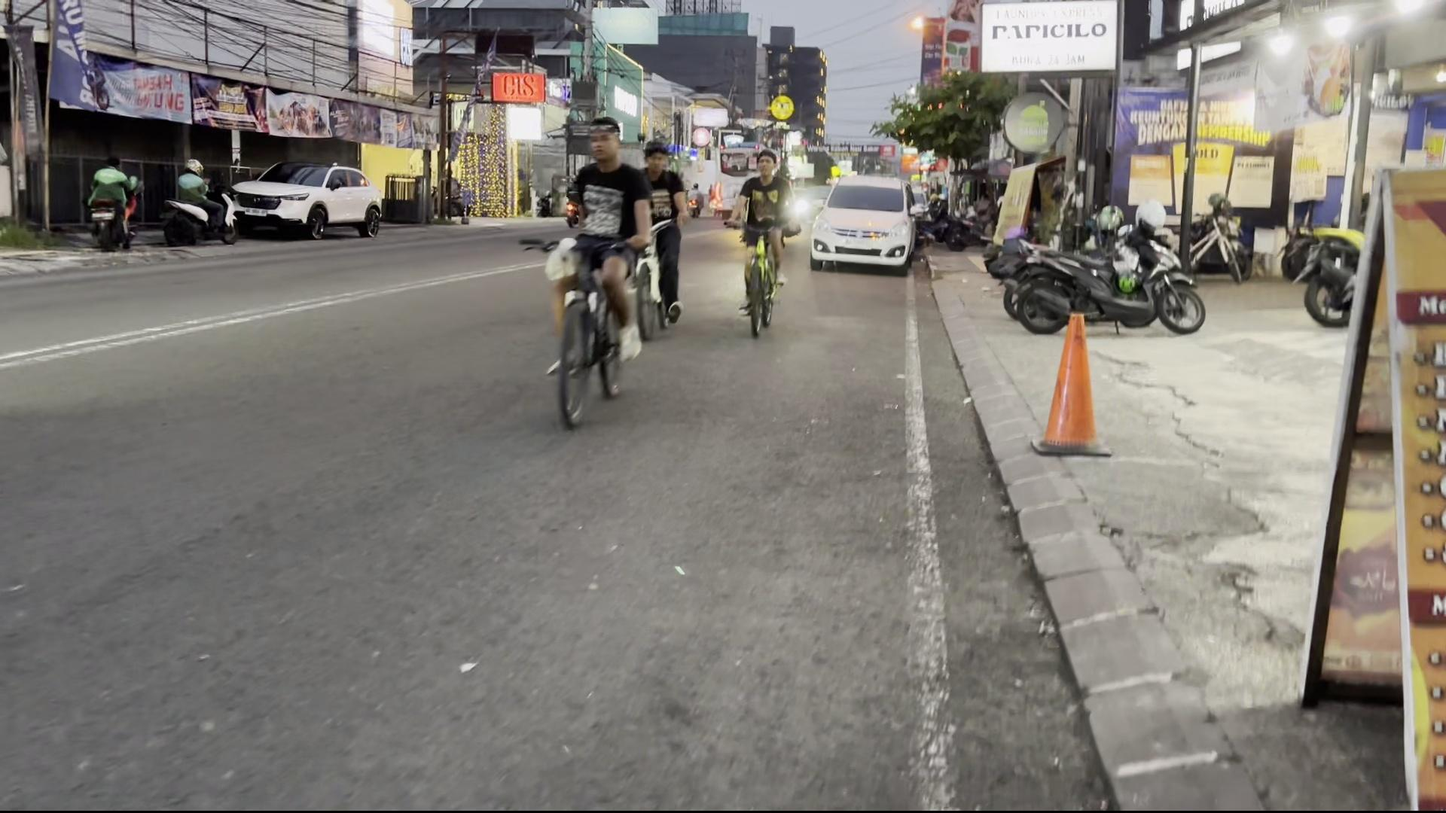nohelm: (584, 116, 624, 167), (748, 149, 783, 182)
riding: (521, 105, 654, 438), (724, 147, 805, 345)
